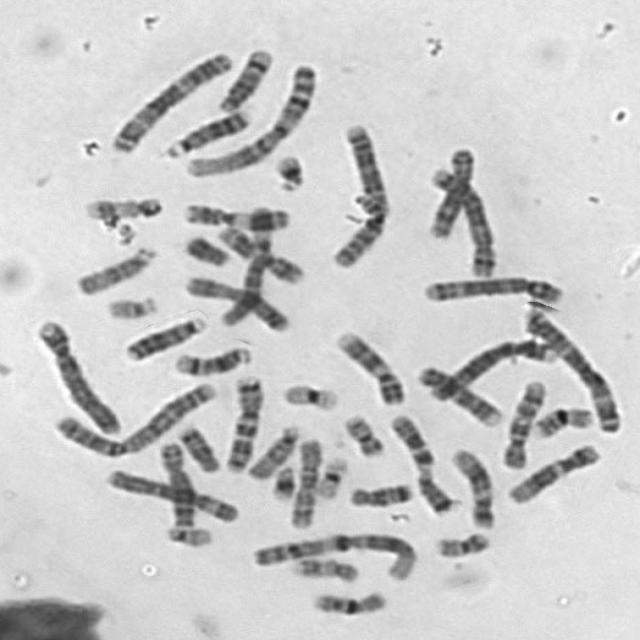A1: (174, 55, 322, 179), (246, 523, 420, 583)
A2: (43, 374, 220, 459), (321, 116, 392, 269)
A3: (101, 43, 237, 154), (514, 301, 626, 434)
B4: (27, 311, 124, 437), (419, 331, 561, 403)
B5: (421, 156, 501, 278), (415, 268, 567, 305)
C10: (494, 372, 550, 470), (282, 430, 325, 531)
C11: (210, 218, 307, 286), (175, 196, 293, 232)
C12: (499, 436, 604, 506), (443, 441, 497, 530)
C6: (97, 460, 243, 525), (212, 199, 278, 329)
C7: (381, 405, 458, 516), (216, 368, 266, 474)
C8: (420, 138, 479, 240), (149, 434, 198, 530)
C9: (327, 323, 408, 407), (409, 358, 506, 428)
D13: (157, 102, 253, 158), (116, 308, 209, 362)
D14: (211, 41, 276, 112), (166, 339, 254, 377)
D15: (67, 238, 160, 296), (239, 418, 303, 482)
E16: (525, 398, 596, 440), (302, 583, 389, 617)
E17: (283, 549, 363, 584), (76, 189, 165, 220)
E18: (170, 418, 221, 473), (341, 475, 416, 509)
F19: (274, 376, 342, 412), (306, 449, 351, 501)
F20: (335, 406, 387, 458), (426, 523, 494, 559)
G21: (265, 146, 308, 193), (263, 458, 299, 503)
G22: (98, 289, 160, 321), (158, 519, 215, 549)
X: (176, 268, 292, 334)
Y: (176, 228, 233, 267)
